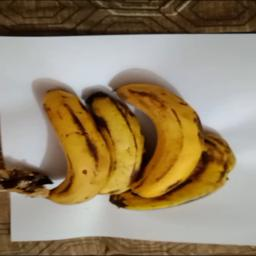Banana Semifresh: (114, 67, 235, 220), (0, 79, 108, 212), (77, 69, 149, 212)
